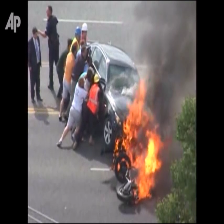fire_h: (119, 72, 164, 201)
fire_l: (117, 157, 130, 171), (113, 139, 120, 157)
